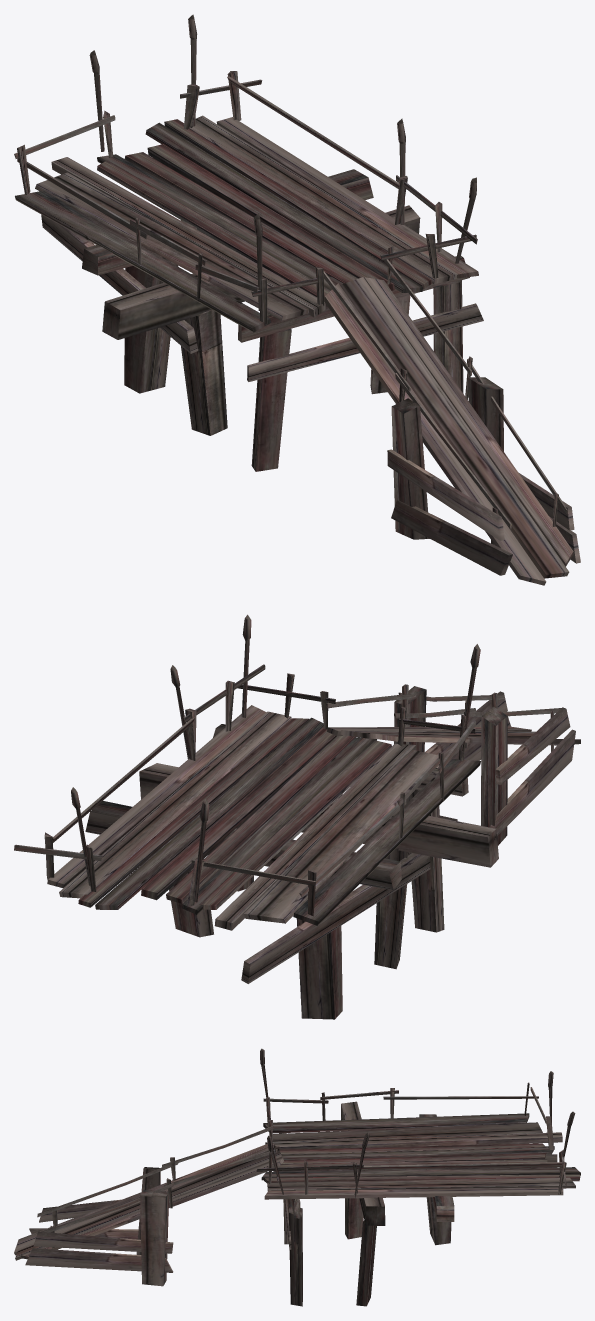
Rendered from pir_m_prp_swm_gate.fbx.
3 renders of one model, top to bottom at view 1: azimuth 30°, elevation 25°; view 2: azimuth 150°, elevation 25°; view 3: azimuth 270°, elevation 25°, orthographic. The views are drawn at different scales.
Visible parts, largest first — view 1: TablePlank181, TablePlank176, TablePlank177, TablePlank180, TablePlank182, TablePlank167, TablePlank169, plank47, TablePlank174, plank49, TablePlank170, TablePlank175 (+19 smaller); view 2: TablePlank176, TablePlank167, TablePlank177, TablePlank169, TablePlank174, plank49, TablePlank170, TablePlank179, TablePlank175, TablePlank173, TablePlank168, TablePlank171 (+21 smaller); view 3: TablePlank167, TablePlank177, TablePlank174, TablePlank175, TablePlank176, plank51, TablePlank169, TablePlank186, TablePlank180, TablePlank181, TablePlank172, TablePlank187 (+21 smaller).
Boxes of the visible parts, box(x1,y1,x2,y2) form: TablePlank181: box(340, 277, 569, 578); TablePlank176: box(35, 172, 309, 320); TablePlank177: box(15, 190, 271, 332); TablePlank180: box(324, 283, 546, 585); TablePlank182: box(364, 277, 573, 566); TablePlank167: box(183, 115, 457, 284); TablePlank169: box(145, 122, 422, 292); plank47: box(181, 310, 227, 435); TablePlank174: box(51, 157, 326, 317); plank49: box(102, 205, 420, 339); TablePlank170: box(147, 144, 394, 290); TablePlank175: box(216, 117, 478, 278); TablePlank176: box(244, 750, 438, 923); TablePlank167: box(59, 711, 291, 898); TablePlank177: box(293, 759, 480, 925); TablePlank169: box(95, 717, 323, 909); TablePlank174: box(214, 744, 416, 930); plank49: box(139, 763, 498, 867); TablePlank170: box(141, 727, 336, 900); TablePlank179: box(241, 853, 430, 983); TablePlank175: box(47, 705, 266, 888); TablePlank173: box(199, 740, 391, 909); TablePlank168: box(78, 718, 309, 907); TablePlank171: box(166, 735, 355, 903); TablePlank167: box(267, 1177, 575, 1190); TablePlank177: box(263, 1113, 529, 1133); TablePlank174: box(265, 1132, 562, 1149); TablePlank175: box(264, 1187, 563, 1199); TablePlank176: box(272, 1122, 542, 1141); plank51: box(140, 1190, 168, 1286); TablePlank169: box(261, 1167, 580, 1180); TablePlank186: box(25, 1248, 173, 1272); TablePlank180: box(14, 1143, 280, 1255); TablePlank181: box(15, 1148, 282, 1260); TablePlank172: box(281, 1146, 554, 1159); TablePlank187: box(33, 1231, 173, 1253).
Size of the model in its own units: 3965 by 3211 by 8818.
Materials: 1 (1 with a texture image).
